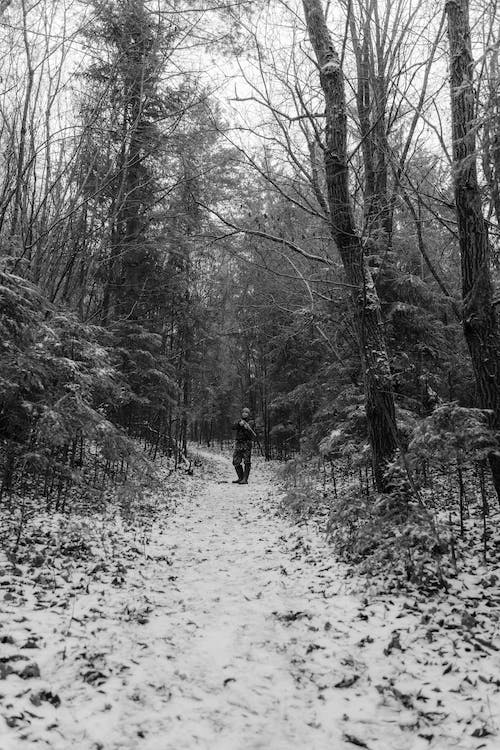gun: (241, 418, 259, 439)
